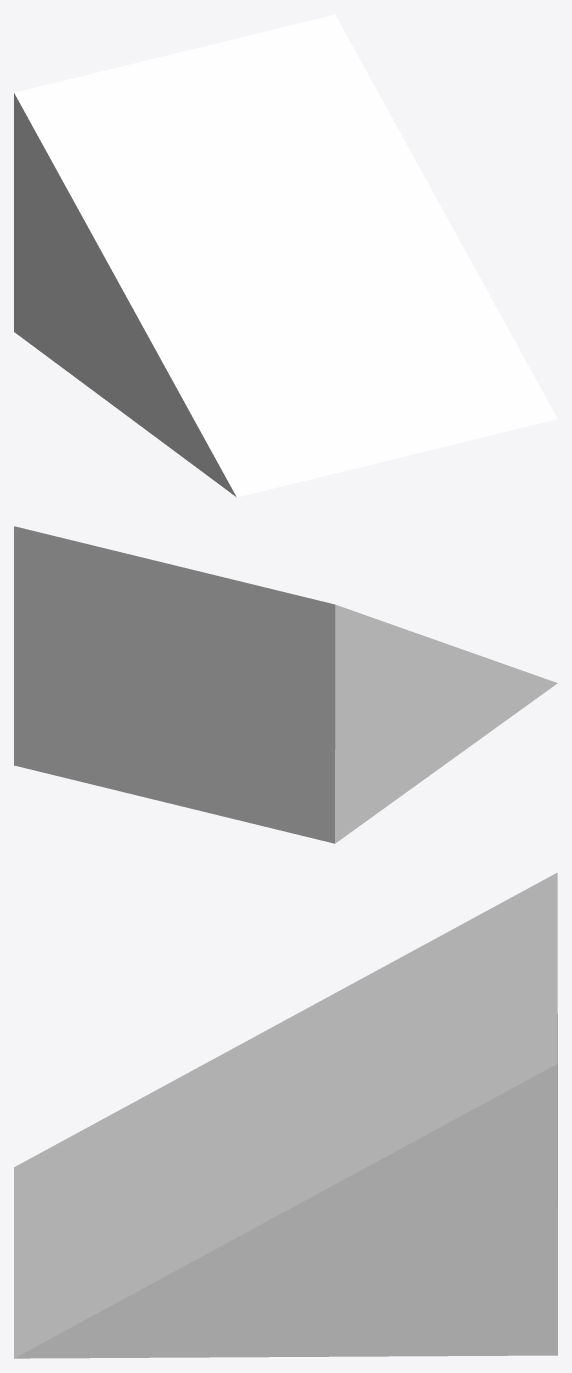
Rendered from Ramp45.fbx.
3 renders of one model, top to bottom at view 1: azimuth 30°, elevation 25°; view 2: azimuth 150°, elevation 25°; view 3: azimuth 270°, elevation 25°, orthographic. The views are drawn at different scales.
Parts seen in each view (by area): view 1: node_id5; view 2: node_id5; view 3: node_id5.
Boxes of the visible parts, x1=… form: node_id5: x1=14, y1=14, x2=557, y2=497; node_id5: x1=14, y1=526, x2=557, y2=843; node_id5: x1=14, y1=872, x2=557, y2=1358.
Bounding box in the file's own units: 0.512 × 0.3682 × 0.6155.
Materials: 1 (1 with a texture image).
